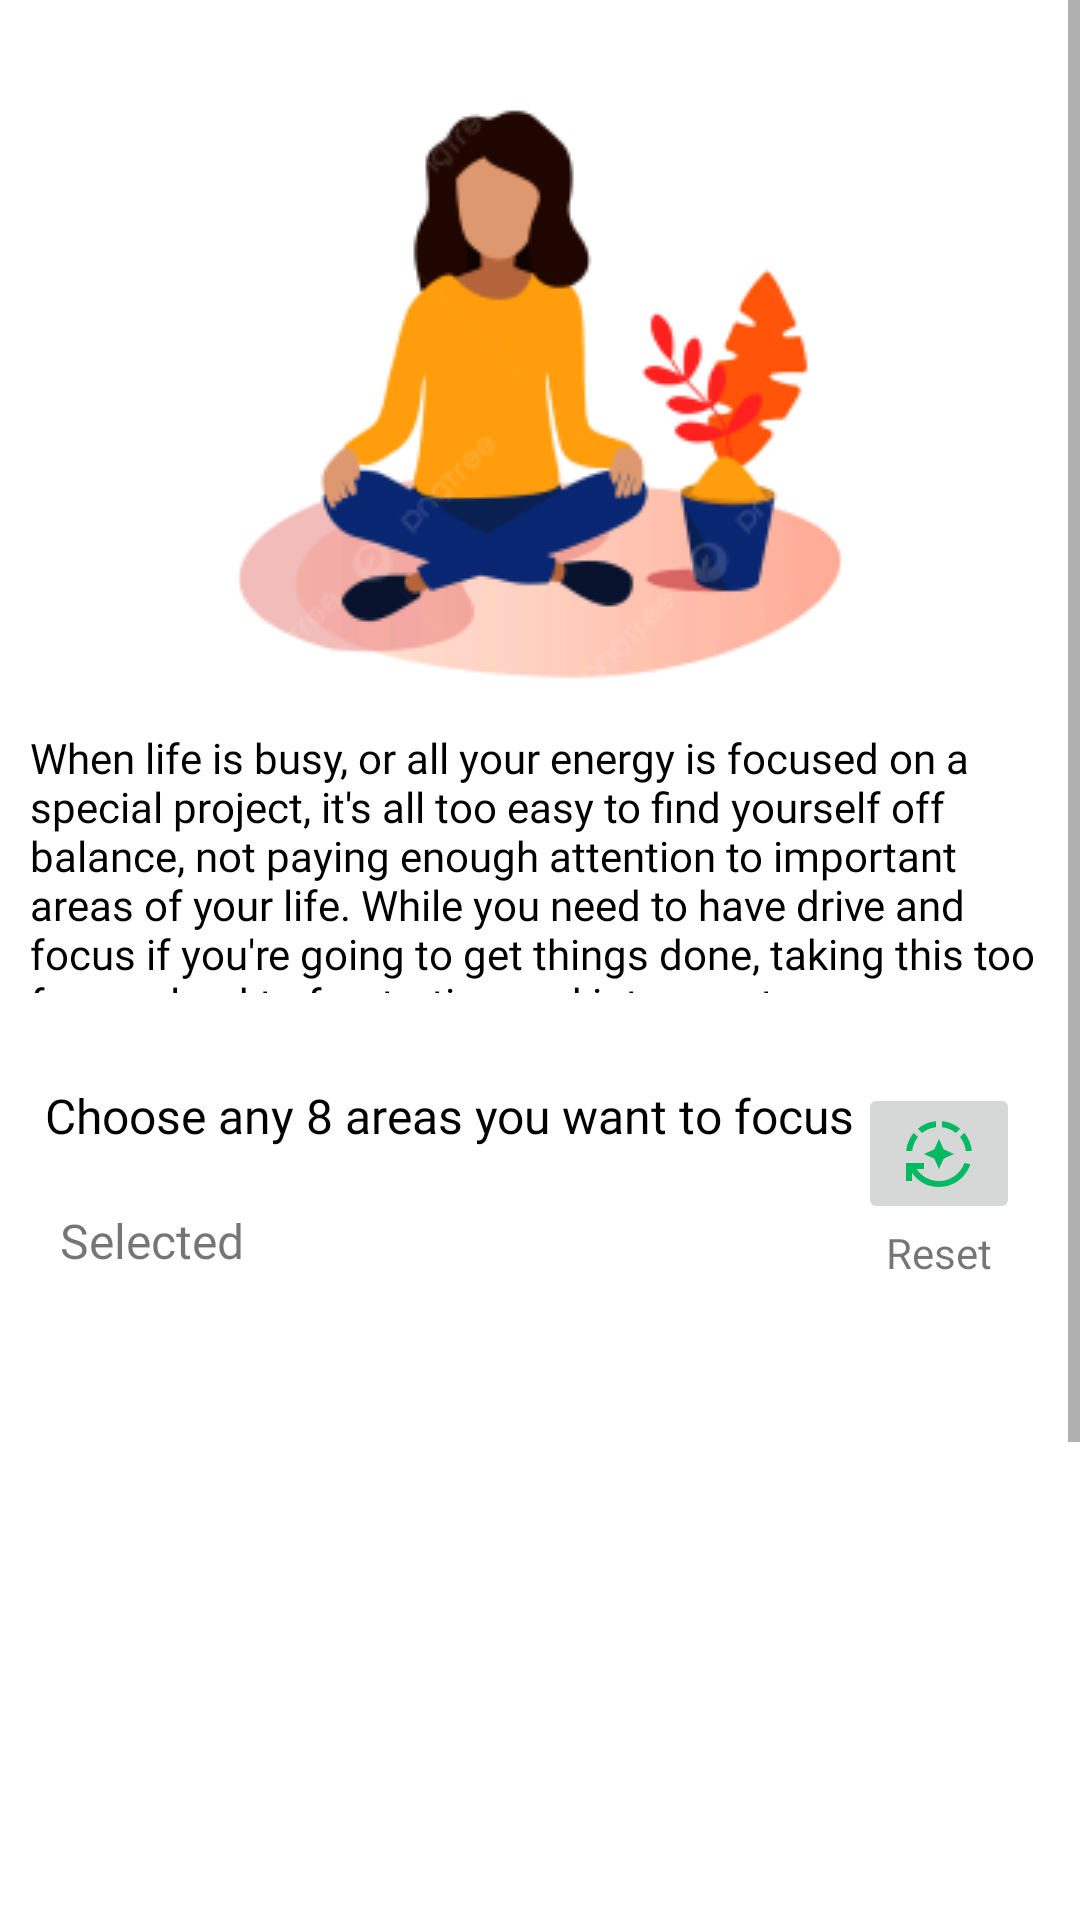

Where icons sit on this 1080 × 1920 app screen, as bbox(x1, y1, x2, y2):
auto mode: bbox(870, 1101, 1008, 1206)
